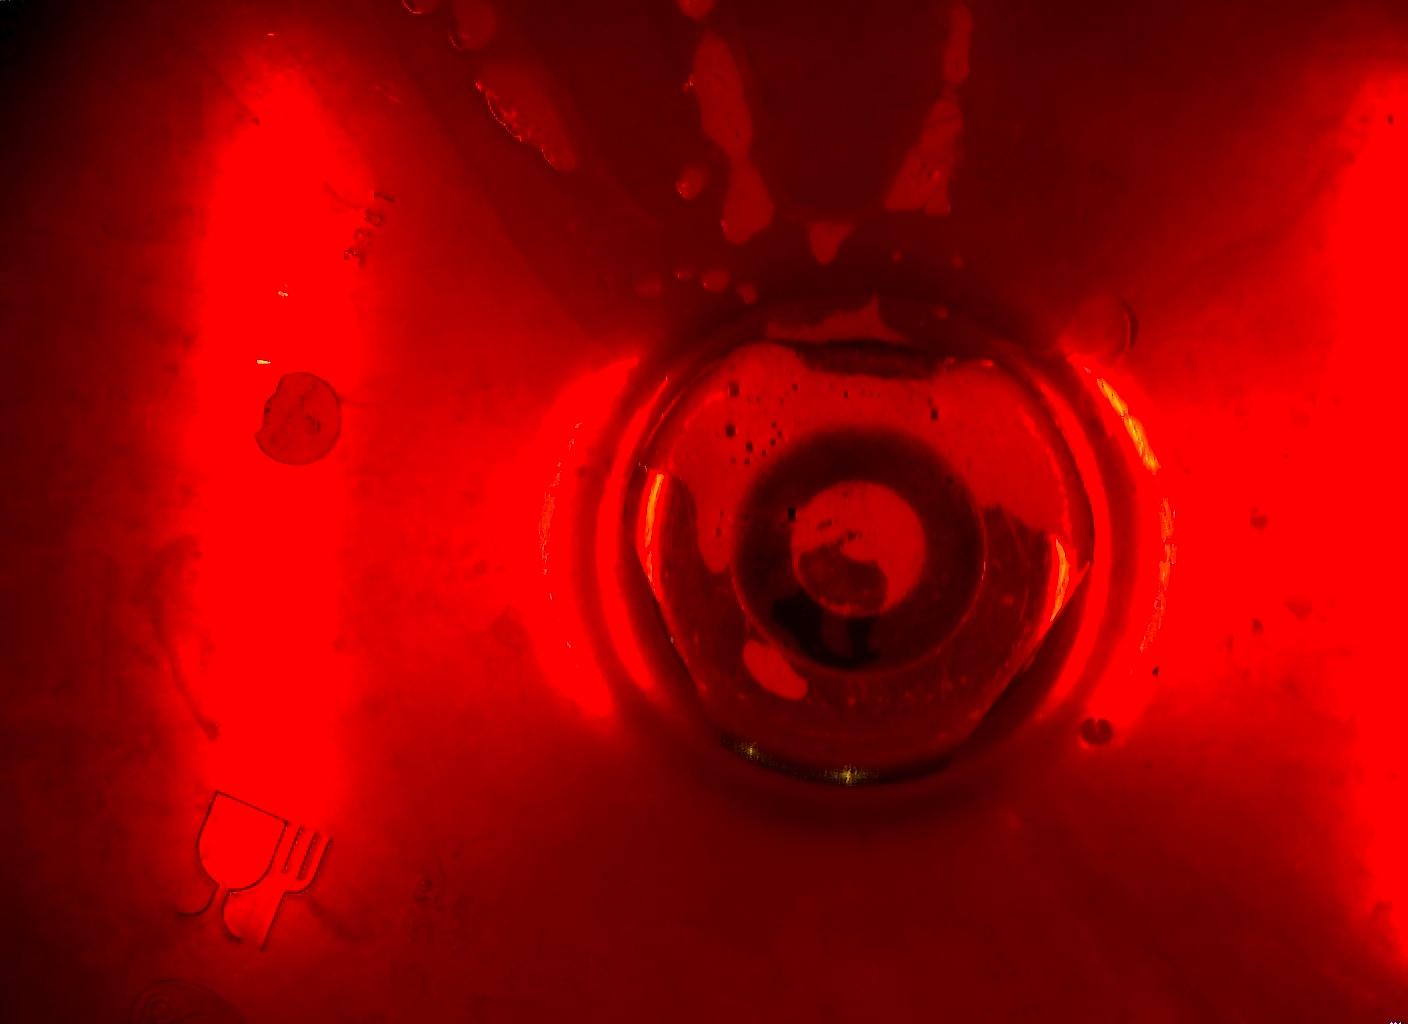pena: (397, 9, 1095, 705)
